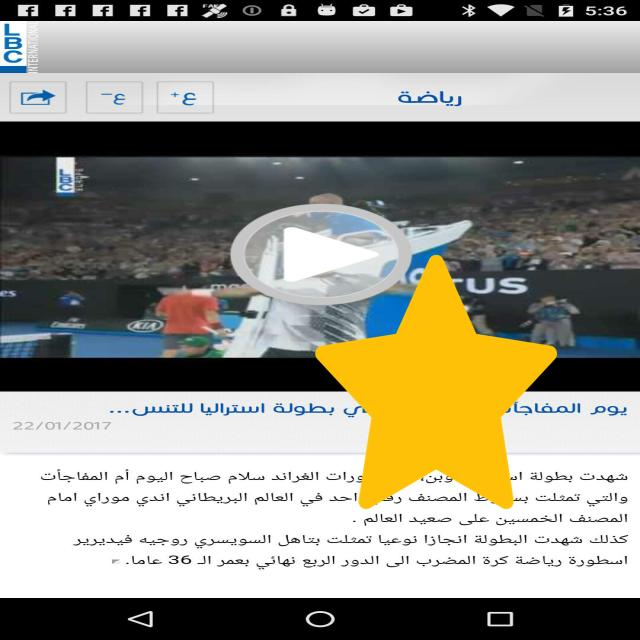forced continuity: (315, 255, 557, 509)
